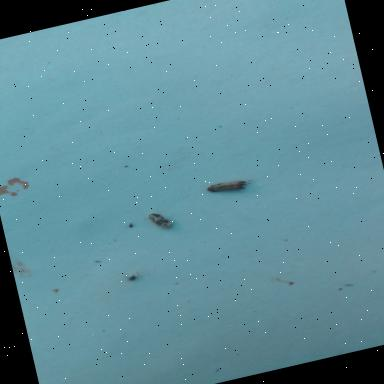pbw: (204, 173, 256, 199)
